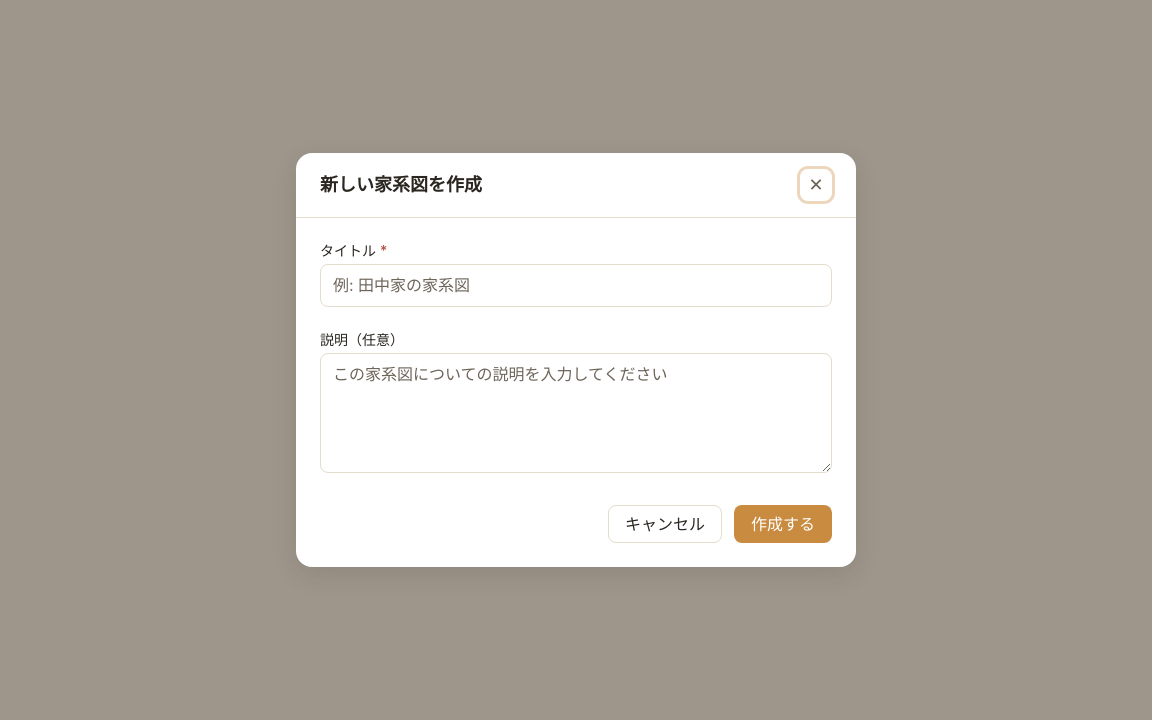
CreateTreeModal › クライアントサイドバリデーション › タイトル空のまま submit → バリデーションエラーが表示され createTree が呼ばれないこと
The width and height of the screenshot is (1152, 720).
Click the button "作成する": click(783, 524) [734,505,832,543]
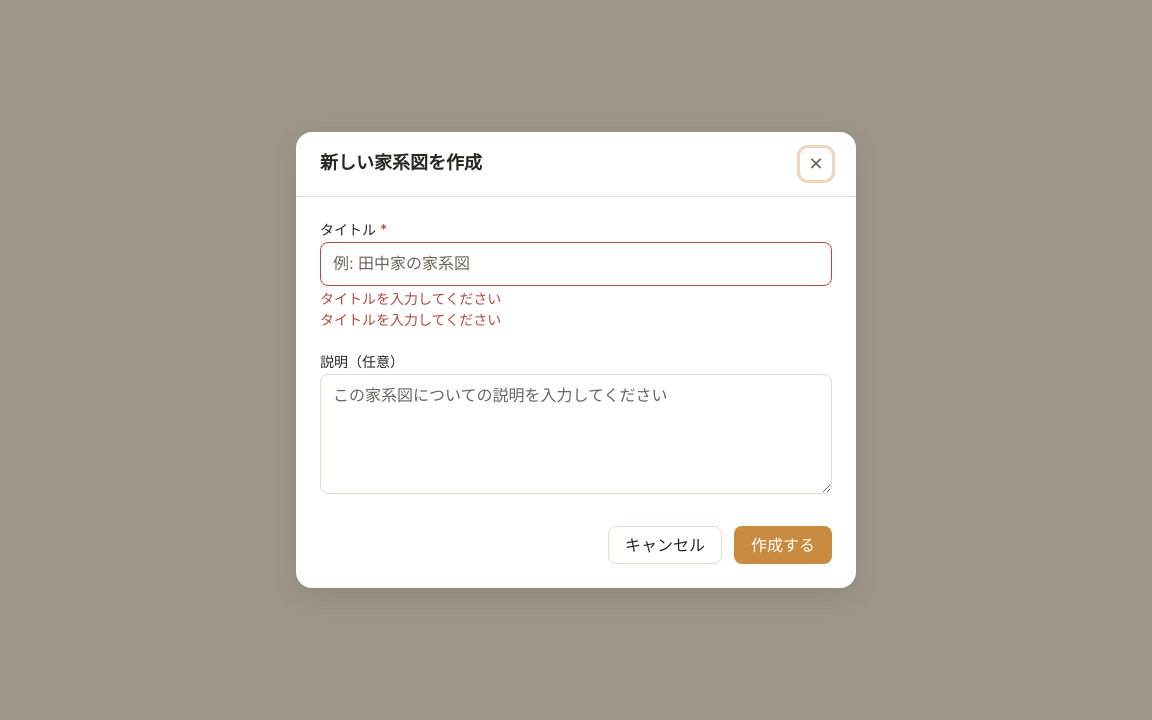
Now the 1st text "タイトルを入力してください" is shown, box [320,290,501,307]
